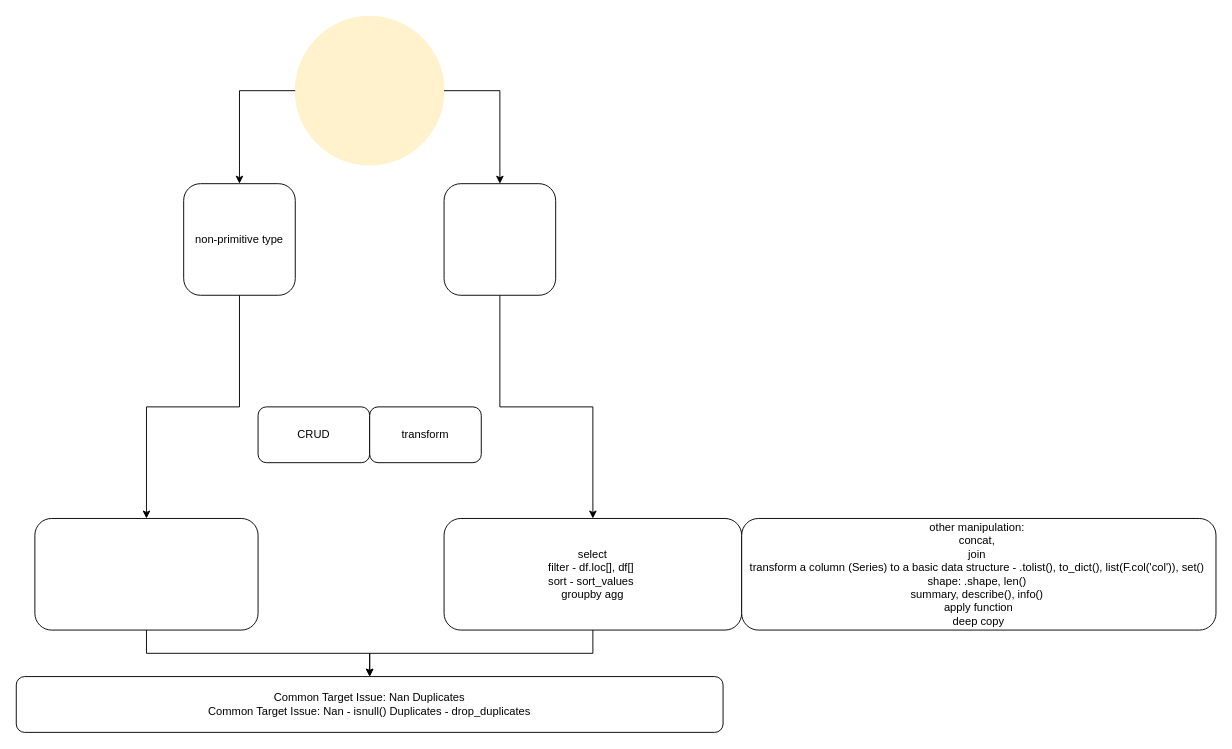
Image size: 1232x749. Some labels were removed from this diagram. Here are the shapes that lost their labels. From the top down, the box of each, then its label:
(294, 15, 444, 165): python manipulation of data structure
(443, 183, 556, 295): pandas dataframe
(34, 518, 258, 630): select directly filter sort groupby aggregation - sum count collect
